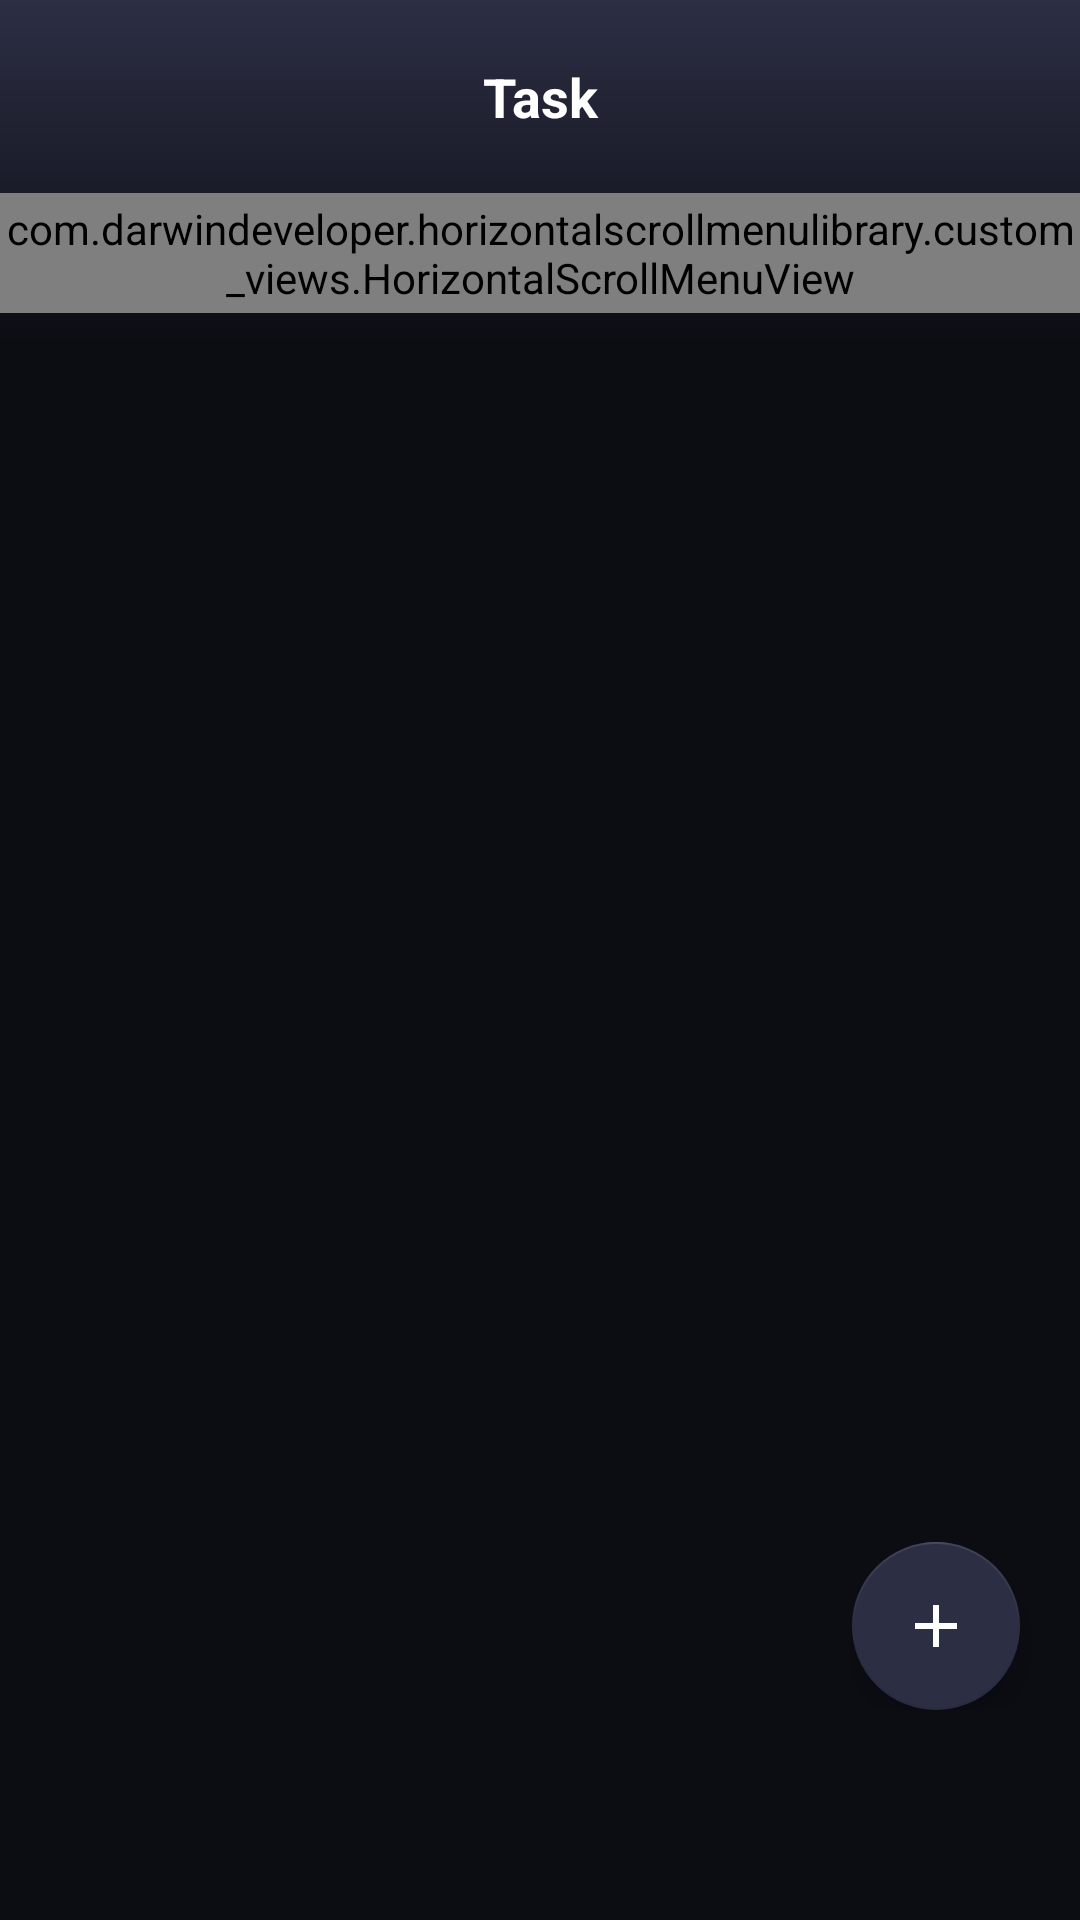

Screen size 1080×1920. Icon name, then its center in pixels as point (x, y):
add: point (936, 1626)
